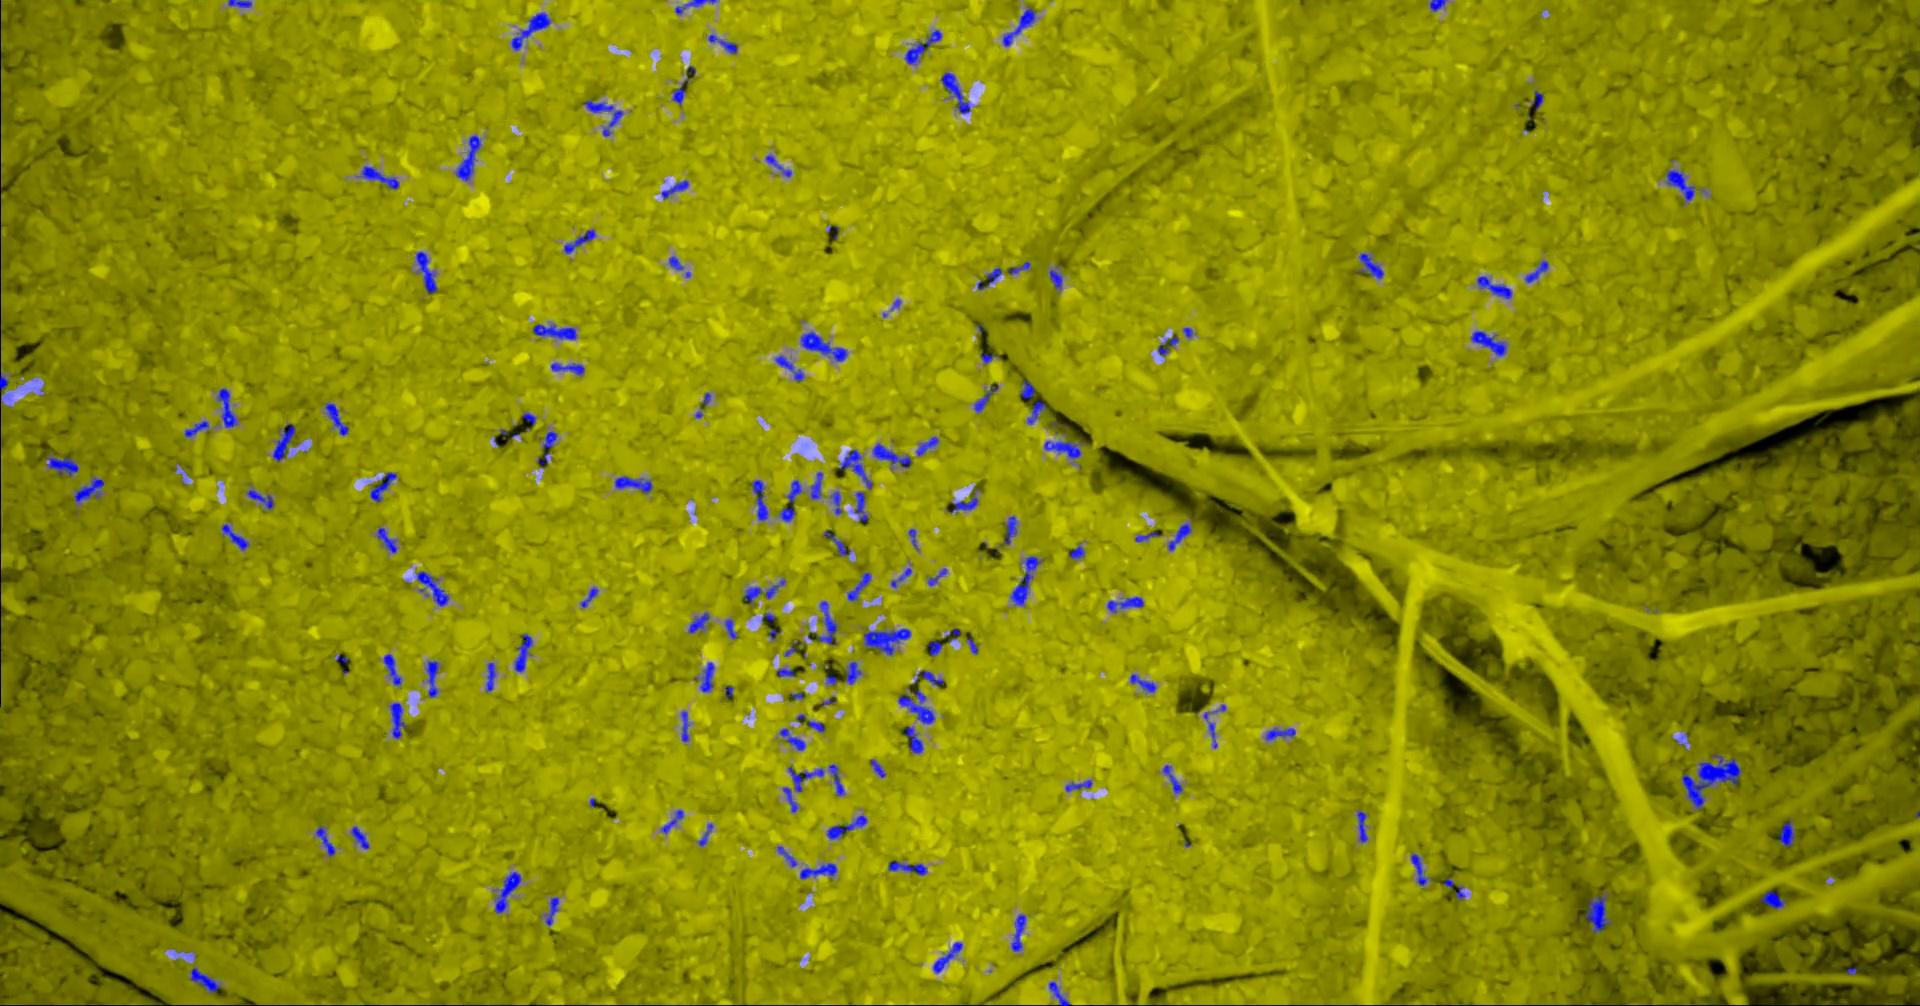ant: (782, 766, 823, 812), (1010, 555, 1040, 605), (510, 11, 550, 50), (583, 99, 622, 136), (800, 332, 847, 361), (839, 448, 872, 489), (863, 627, 910, 655), (897, 688, 935, 723), (904, 29, 941, 64), (1002, 8, 1035, 46), (940, 72, 970, 113), (455, 135, 480, 180), (494, 871, 521, 913), (417, 570, 448, 605), (743, 578, 783, 603), (825, 815, 866, 840), (1585, 895, 1610, 932), (872, 443, 910, 467), (1470, 330, 1506, 356), (1665, 169, 1694, 199), (932, 942, 963, 972), (415, 251, 437, 292), (817, 601, 837, 644), (272, 423, 295, 461), (361, 165, 397, 188), (1476, 276, 1511, 298), (189, 967, 220, 993), (216, 387, 236, 427), (563, 229, 596, 253), (324, 403, 348, 434), (537, 431, 557, 467), (775, 354, 803, 381), (370, 473, 396, 500), (74, 476, 103, 502), (532, 323, 577, 339), (1356, 251, 1383, 278), (221, 523, 248, 550), (1043, 439, 1079, 459), (973, 385, 998, 412), (823, 530, 850, 555), (514, 633, 532, 671), (389, 702, 408, 738), (847, 572, 871, 600), (750, 479, 767, 520), (46, 456, 77, 476), (1167, 523, 1191, 550), (315, 826, 335, 856), (764, 154, 791, 177), (615, 476, 651, 493), (1106, 596, 1143, 612), (799, 862, 836, 879), (1410, 854, 1429, 885), (1162, 763, 1182, 793), (674, 0, 716, 14), (888, 860, 926, 875), (778, 728, 805, 749), (707, 34, 737, 53), (695, 662, 714, 691), (977, 267, 1001, 290), (660, 809, 683, 833), (1048, 981, 1070, 1005), (945, 495, 978, 512), (662, 179, 688, 199), (246, 489, 273, 509), (383, 654, 401, 685), (903, 727, 923, 753), (828, 763, 844, 795), (1524, 260, 1548, 282), (376, 527, 396, 553), (1011, 915, 1025, 951), (1129, 673, 1156, 692), (1777, 819, 1796, 846), (1759, 890, 1785, 909), (916, 669, 943, 687), (425, 661, 438, 697), (1027, 400, 1046, 424), (550, 362, 584, 375), (916, 436, 938, 455), (350, 826, 370, 848), (1265, 727, 1295, 741), (890, 567, 910, 587), (688, 612, 709, 633), (776, 846, 796, 866), (1157, 335, 1178, 354), (853, 492, 867, 521), (184, 420, 208, 437), (543, 897, 557, 925), (844, 661, 861, 683), (1003, 514, 1016, 544), (695, 392, 710, 417), (927, 567, 946, 586), (1356, 810, 1368, 842), (580, 586, 597, 607), (697, 823, 712, 845), (1065, 779, 1091, 791), (810, 471, 822, 499), (786, 480, 801, 500), (1007, 260, 1029, 274), (1048, 268, 1062, 290), (485, 662, 495, 691), (869, 760, 885, 777), (672, 83, 684, 105), (1018, 379, 1034, 398), (1135, 531, 1161, 541), (724, 619, 737, 639), (778, 506, 795, 521), (830, 490, 841, 514), (1530, 90, 1543, 109), (1208, 721, 1217, 748), (681, 710, 688, 741), (668, 257, 683, 271), (928, 640, 942, 655), (1068, 545, 1084, 558), (521, 412, 535, 426), (1429, 0, 1445, 11), (808, 720, 824, 732), (227, 0, 251, 8), (0, 372, 8, 394), (777, 668, 794, 676)
